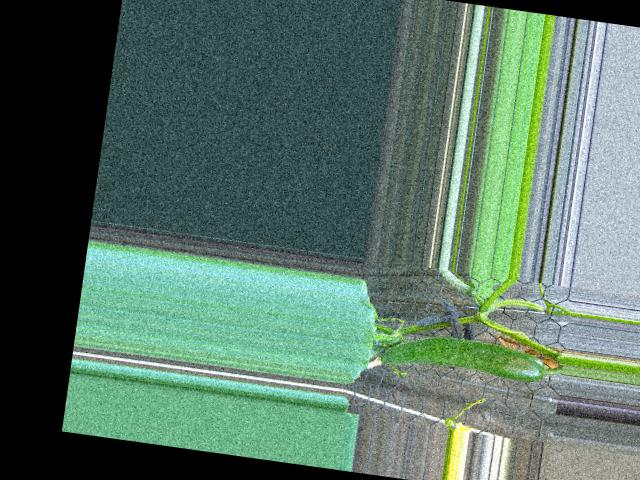cucumber: (381, 327, 547, 385)
